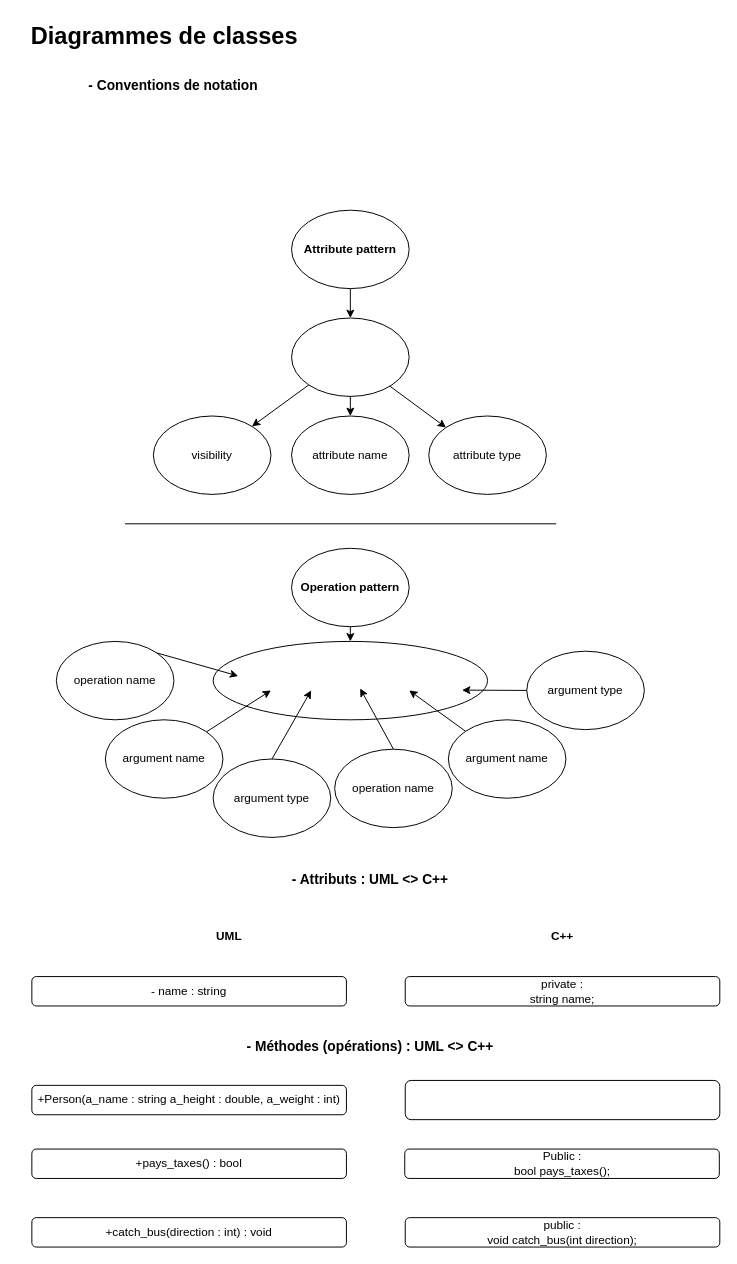
Image size: 737x1264. Some labels were removed from this diagram. Here are the shapes that lost their labels. From the top down, the centre of each, then its label:
At point (350, 356): "- counter : int".
At point (350, 680): "+pow(base : double, exponent : double) : double".
At point (562, 1099): "public: +Person(string a_name,double a_height : , int a_weight);".
